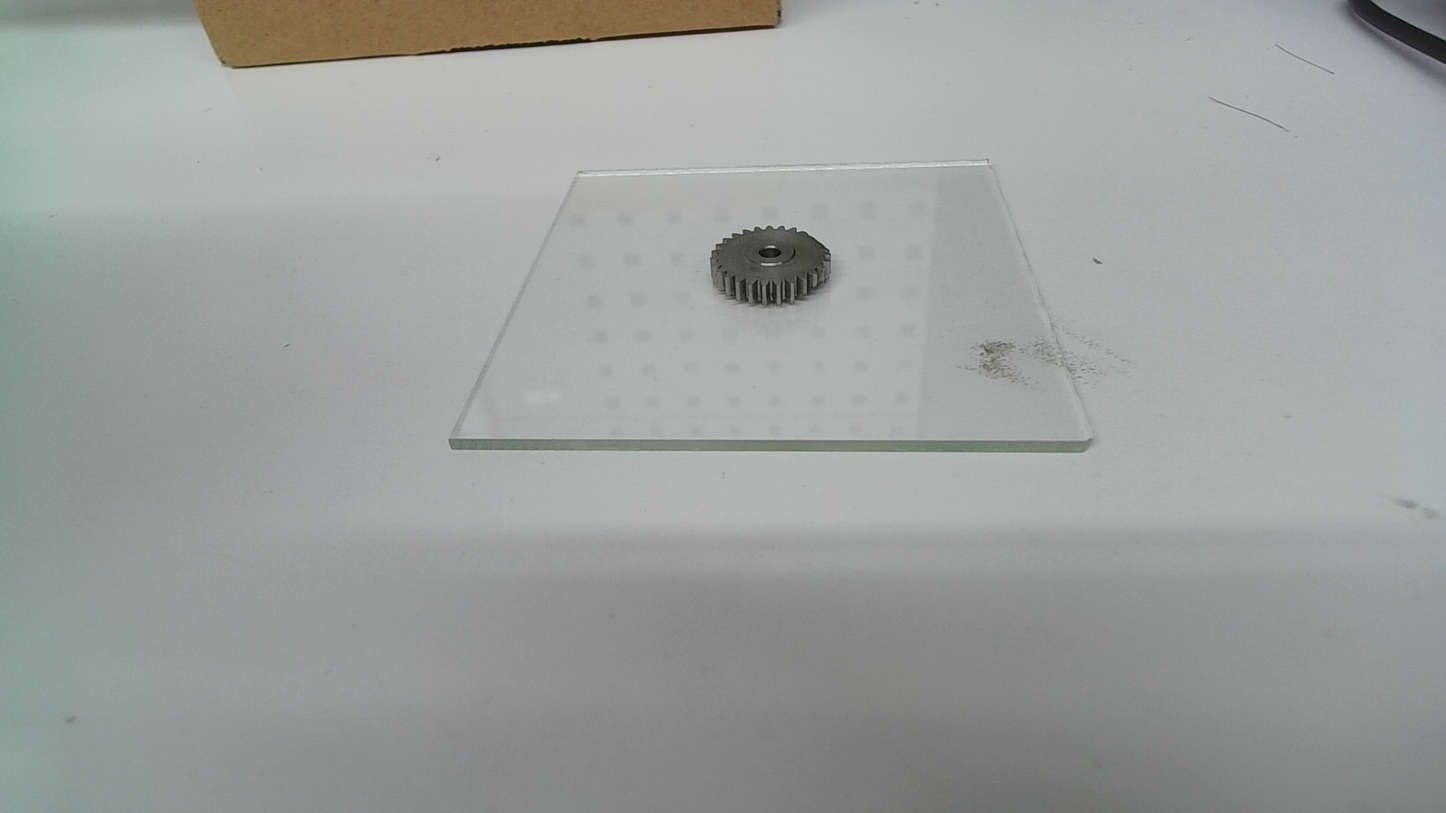gear: (708, 222, 835, 307)
